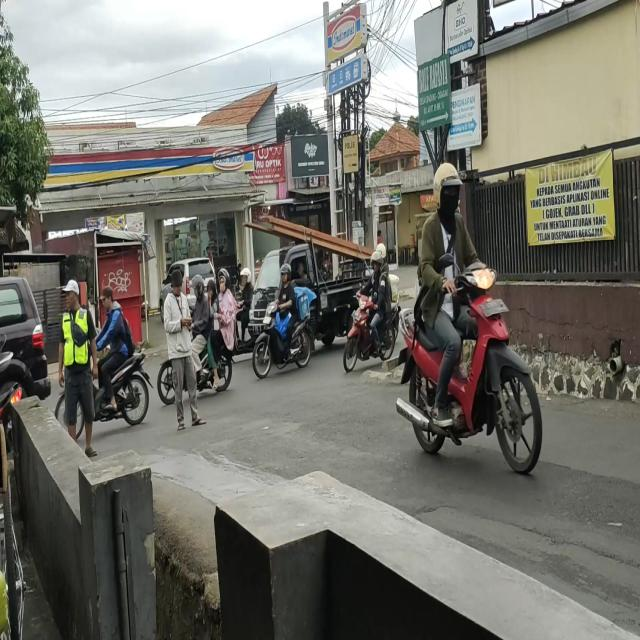helmet: (436, 163, 458, 210), (190, 273, 205, 301), (218, 267, 231, 295), (370, 250, 382, 272), (280, 265, 291, 284), (377, 243, 387, 259), (240, 269, 251, 283)
no-helmet: (97, 285, 114, 309), (207, 280, 215, 299)
